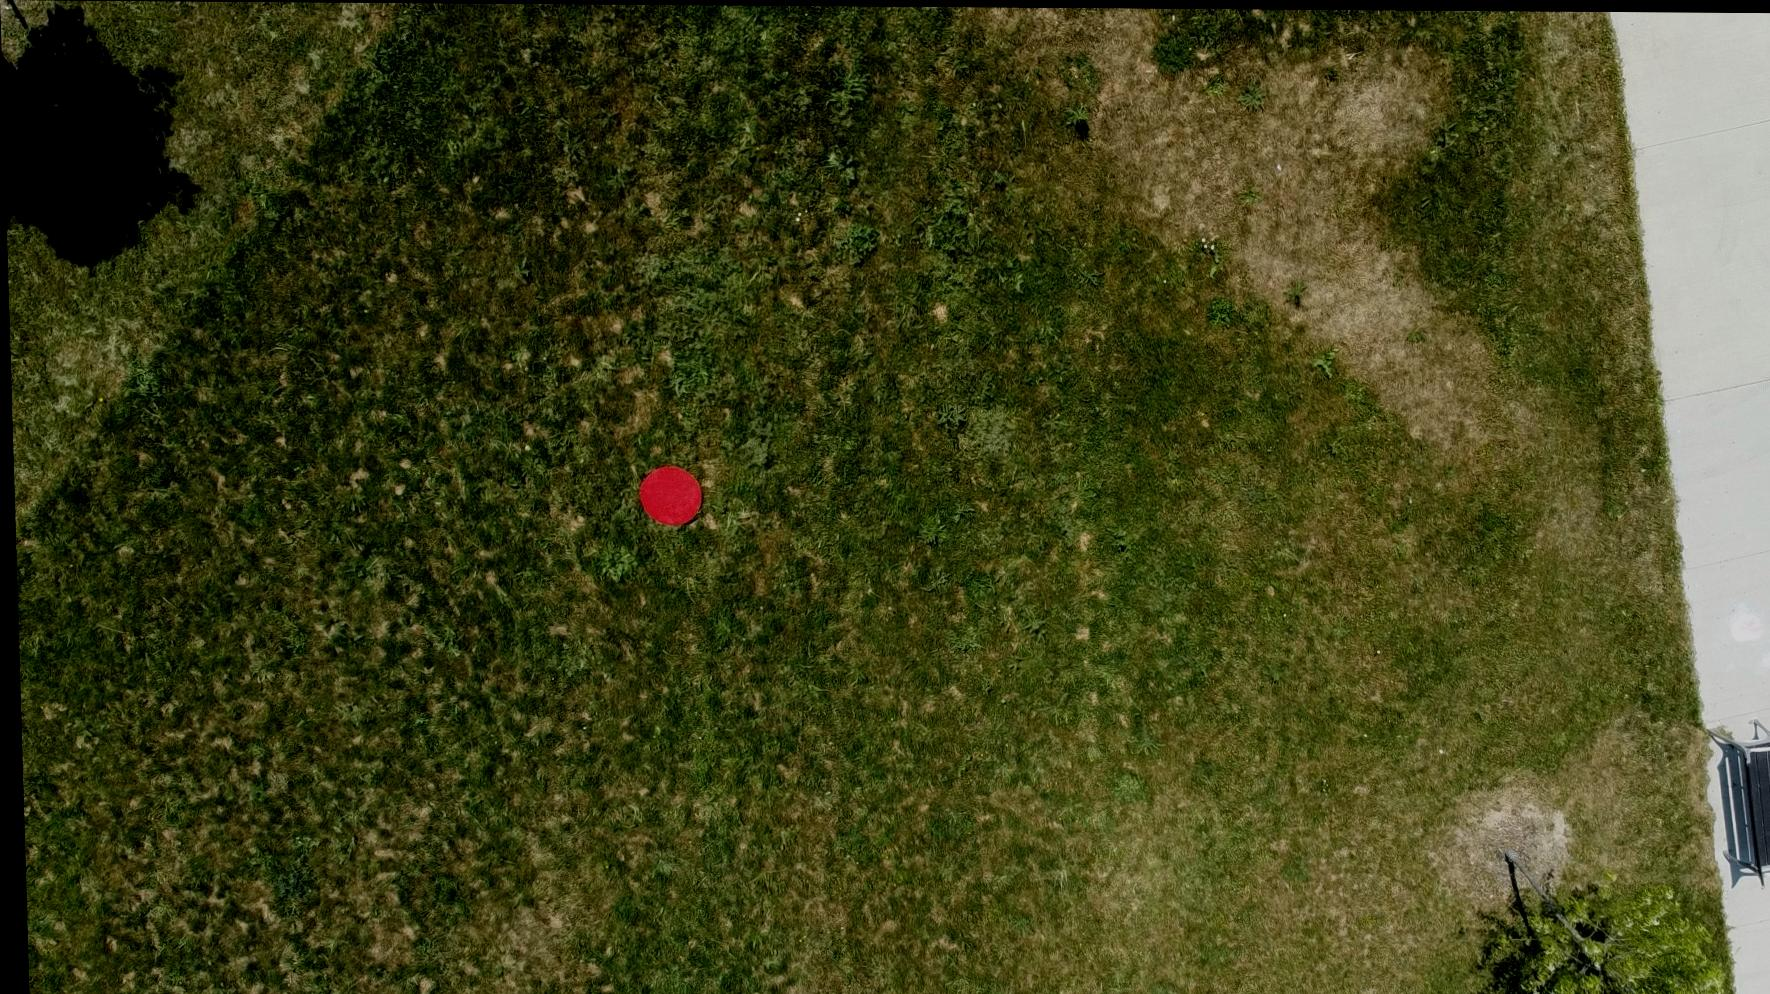Red: (633, 463, 703, 527)
